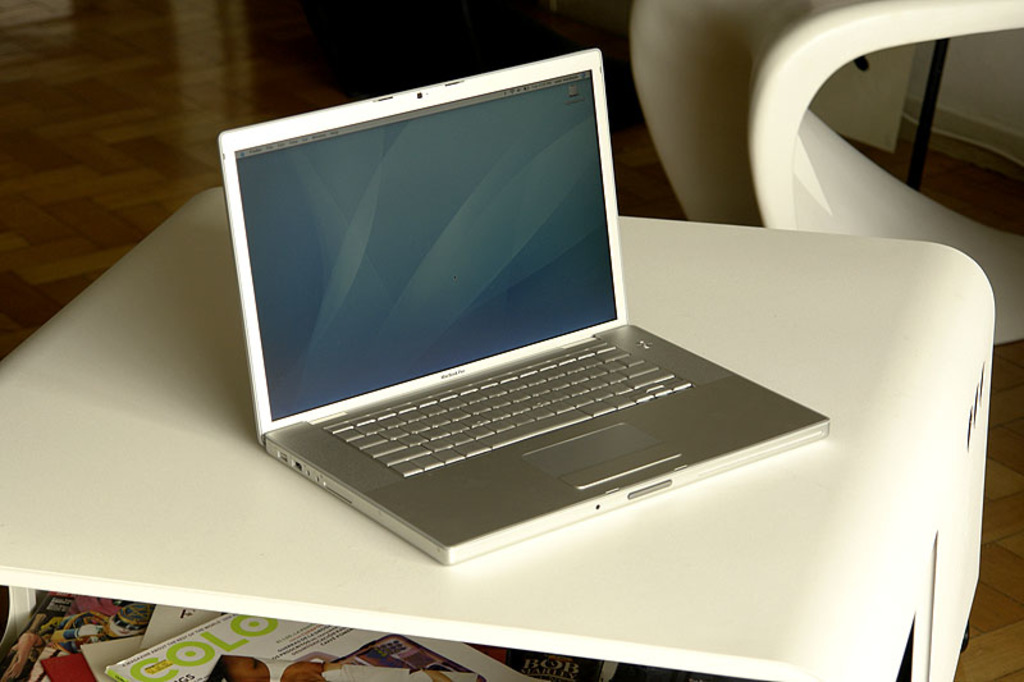Laptop: (218, 45, 832, 566)
